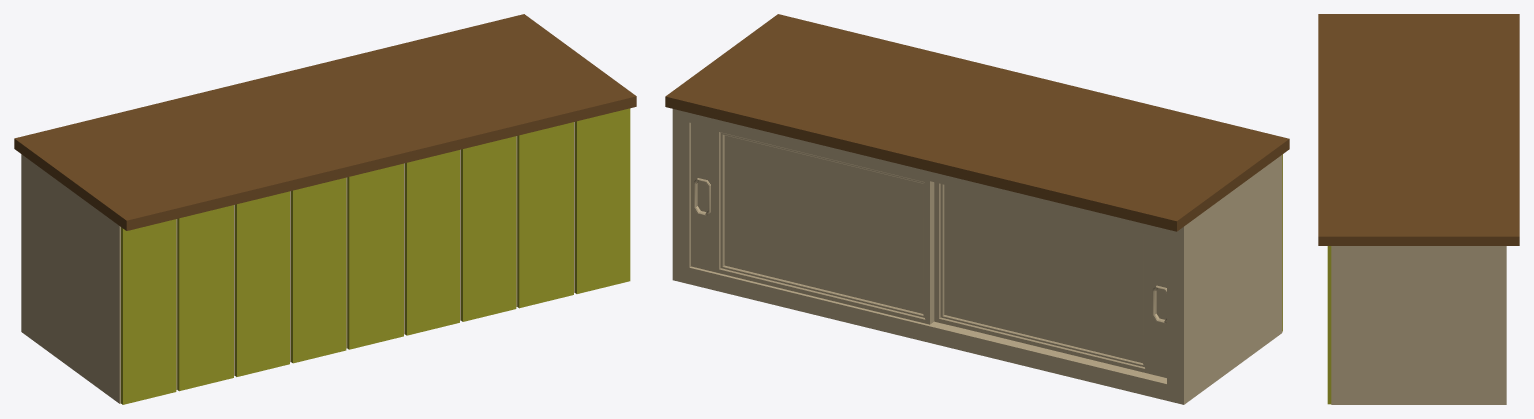
The model's file is Bar_Straight.fbx.
3 views of the same model, side by side, from view 1: azimuth 30°, elevation 25°; view 2: azimuth 150°, elevation 25°; view 3: azimuth 270°, elevation 25° (orthographic). The views are drawn at different scales.
Parts seen in each view (by area): view 1: pCube491; view 2: pCube491; view 3: pCube491.
Boxes of the visible parts, x1=… form: pCube491: x1=14, y1=14, x2=636, y2=404; pCube491: x1=665, y1=14, x2=1289, y2=404; pCube491: x1=1318, y1=14, x2=1519, y2=404.
Size of the model in its own units: 3 by 1.06 by 1.15.
